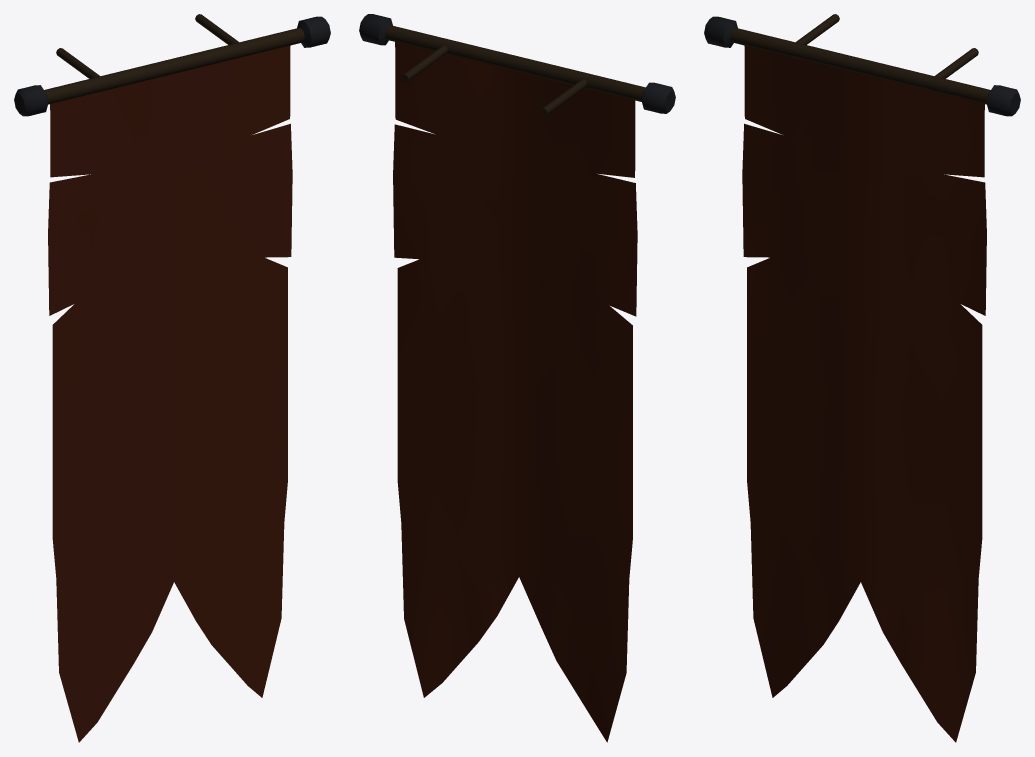
Rendered from Flag_Wall2.obj.
The picture shows the model from 3 angles, left to right: view 1: azimuth 30°, elevation 25°; view 2: azimuth 150°, elevation 25°; view 3: azimuth 330°, elevation 25°; orthographic projection.
Visible parts, largest first — view 1: Flag_Wall2_Cylinder.001; view 2: Flag_Wall2_Cylinder.001; view 3: Flag_Wall2_Cylinder.001.
Boxes of the visible parts, box(x1,y1,x2,y2) form: Flag_Wall2_Cylinder.001: box(14, 14, 330, 742); Flag_Wall2_Cylinder.001: box(359, 14, 675, 742); Flag_Wall2_Cylinder.001: box(704, 14, 1020, 742).
Bounding box in the file's own units: 1.13 × 2.35 × 0.3224.
